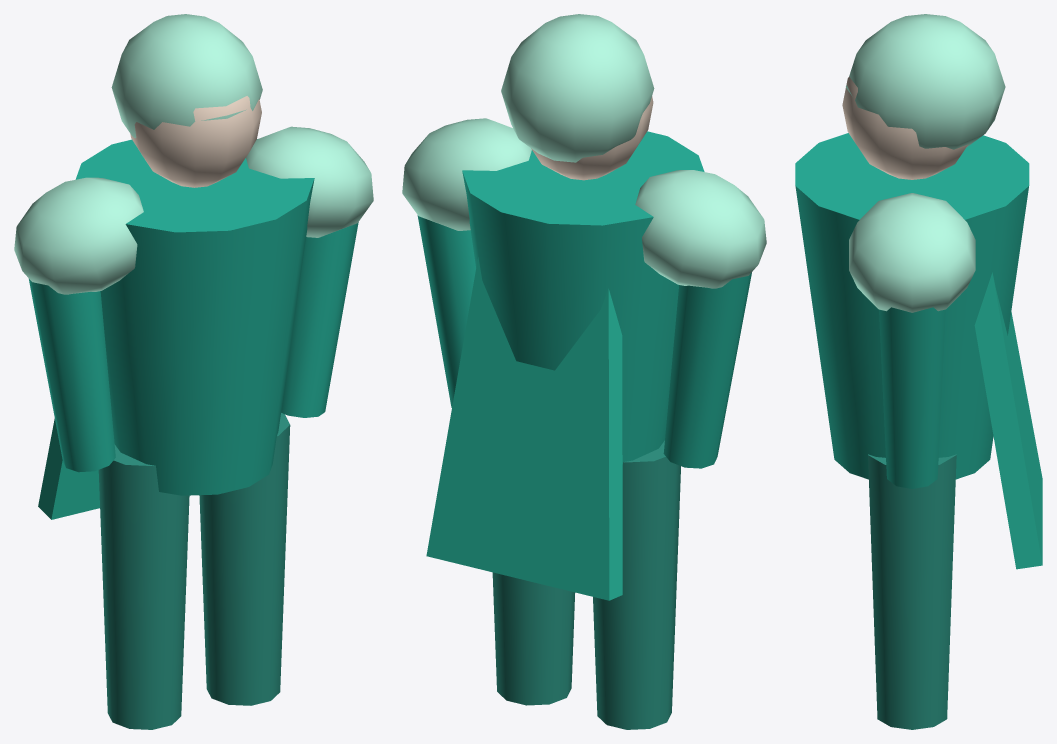
Rendered from hero_elf.glb.
3 views of the same model, side by side, from view 1: azimuth 30°, elevation 25°; view 2: azimuth 150°, elevation 25°; view 3: azimuth 270°, elevation 25° (orthographic). The views are drawn at different scales.
Visible parts, largest first — view 1: armor_torso, greaves, arms, pauldrons, hair, head, cloak; view 2: cloak, armor_torso, greaves, pauldrons, arms, hair, head; view 3: armor_torso, greaves, hair, pauldrons, arms, cloak, head.
Boxes of the visible parts, x1,y1,x2,y2 form: armor_torso: [75, 139, 314, 495]; greaves: [98, 413, 290, 729]; arms: [28, 222, 358, 472]; pauldrons: [14, 126, 373, 294]; hair: [111, 14, 262, 138]; head: [130, 96, 261, 187]; cloak: [38, 418, 99, 519]; cloak: [426, 257, 622, 600]; armor_torso: [462, 131, 704, 463]; greaves: [492, 440, 680, 729]; pauldrons: [402, 118, 766, 288]; arms: [417, 215, 751, 468]; hair: [501, 14, 654, 162]; head: [531, 96, 653, 180]; armor_torso: [795, 133, 1029, 479]; greaves: [868, 454, 956, 729]; hair: [846, 14, 1005, 149]; pauldrons: [849, 193, 975, 312]; arms: [879, 307, 945, 488]; cloak: [974, 272, 1042, 569]; head: [842, 76, 967, 179].
Size of the model in its own units: 1.18 by 2.22 by 0.7421.
